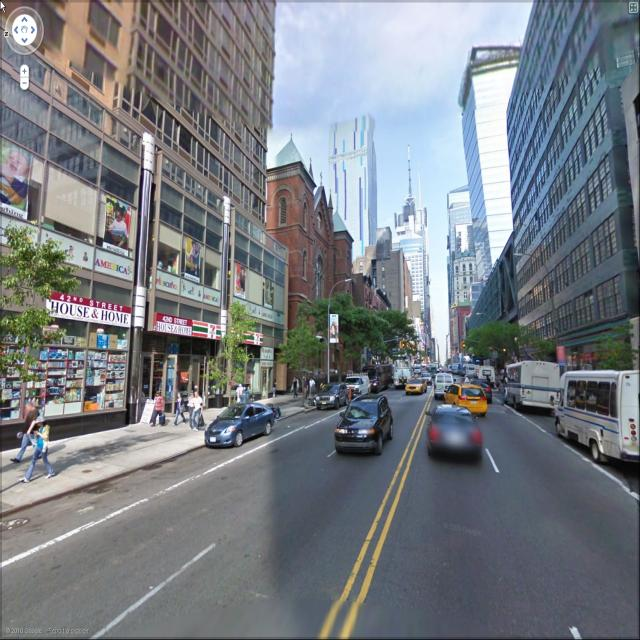b_1: (0, 6, 278, 344), (502, 10, 640, 318), (456, 35, 531, 264), (436, 177, 488, 384), (383, 166, 422, 416), (319, 110, 377, 250), (340, 247, 394, 320)
b_2: (0, 61, 124, 434), (264, 278, 402, 391), (473, 292, 537, 398)
